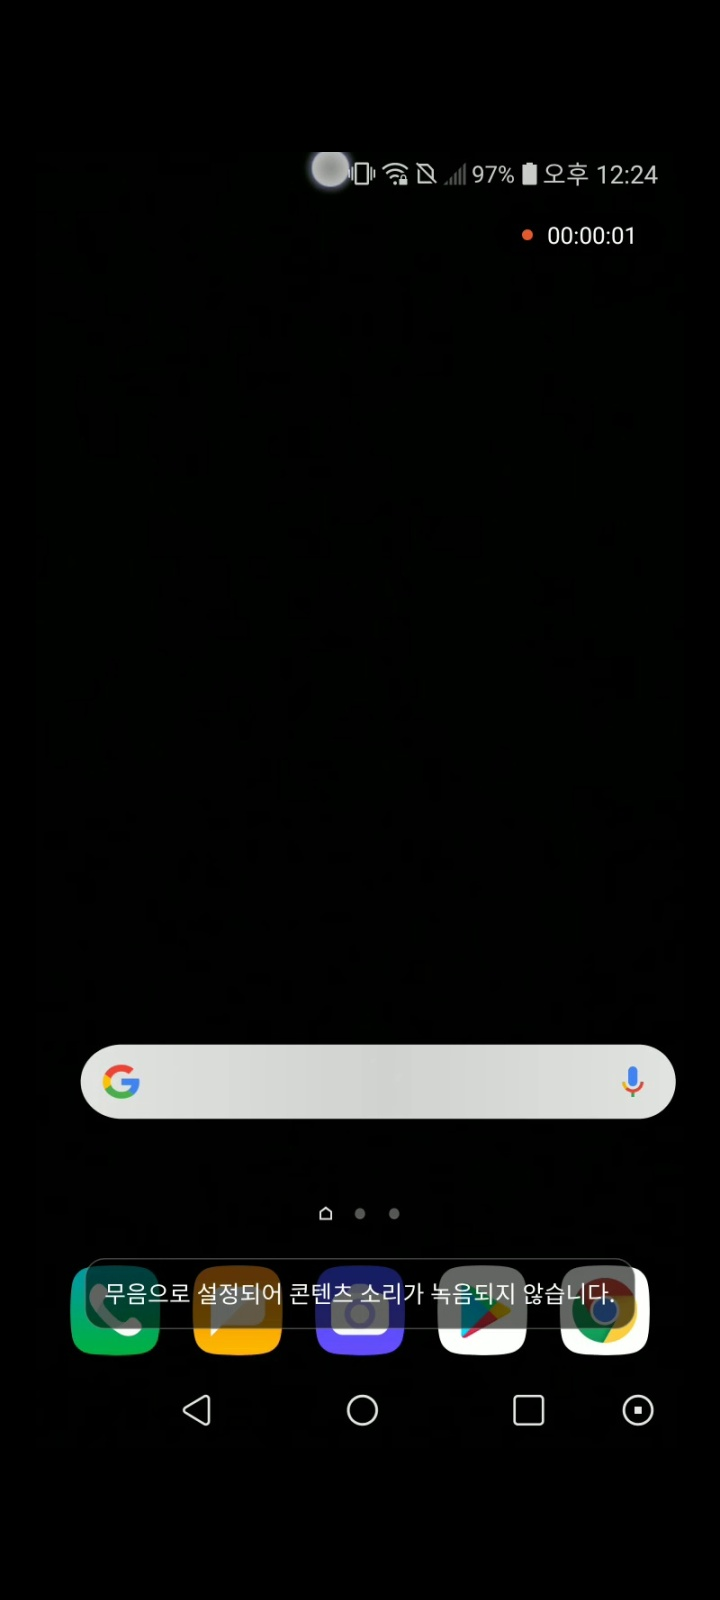Cursor: (309, 153, 351, 189)
